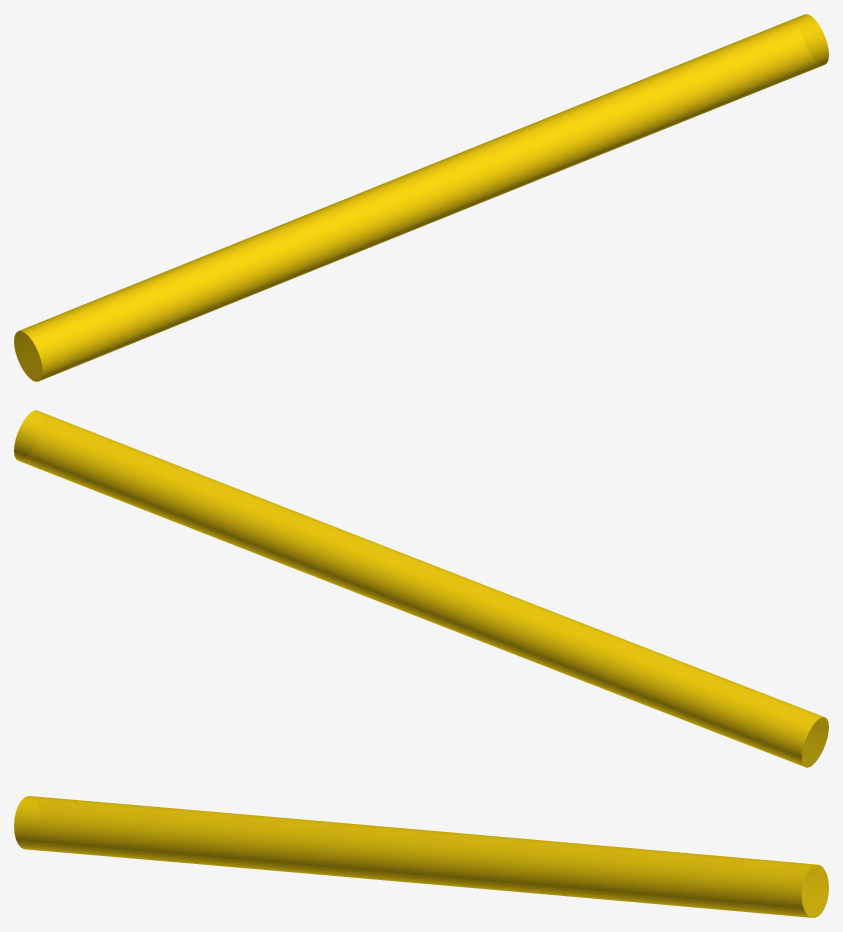
Rendered from Event_420107950_track_25.fbx.
3 views of the same model, one above another, from view 1: azimuth 30°, elevation 25°; view 2: azimuth 150°, elevation 25°; view 3: azimuth 330°, elevation 25° (orthographic).
Visible parts, largest first — view 1: Model; view 2: Model; view 3: Model.
Part boxes in pixels (bbox=[...]): Model: bbox=[14, 14, 828, 381]; Model: bbox=[14, 410, 828, 767]; Model: bbox=[14, 796, 828, 917].
Bounding box in the file's own units: 0.6777 × 0.1372 × 0.0469.
